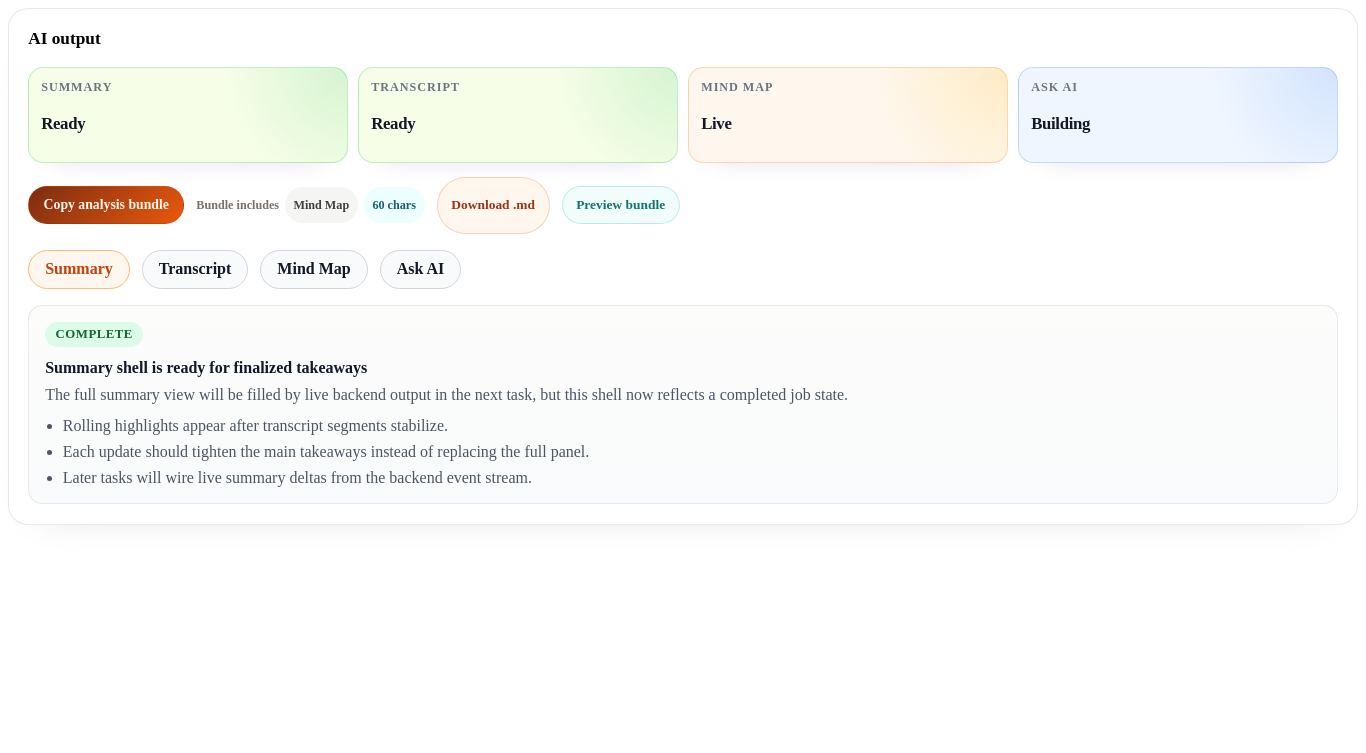
Test case: copies the mind map outline to the clipboard
Click the tab "Mind Map". click: click(314, 269)
box: [260,250,368,289]
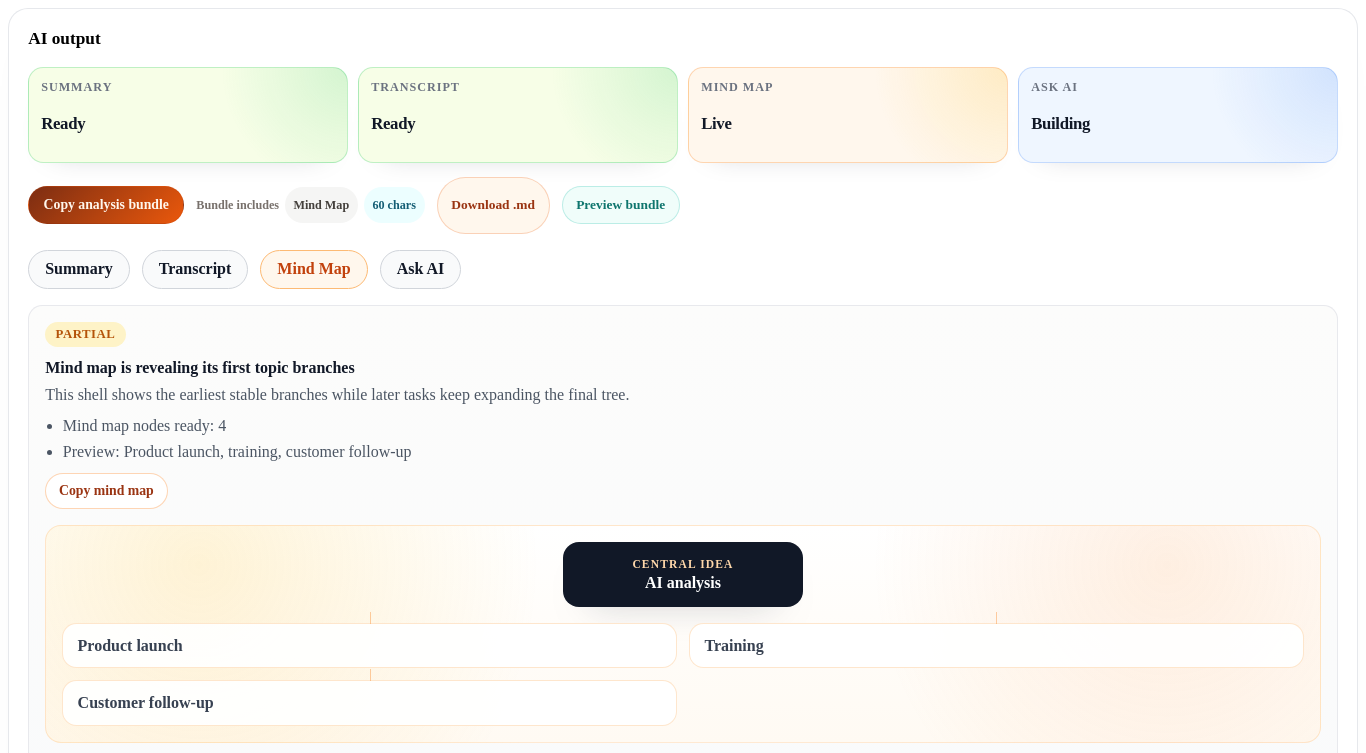
Click the button "Copy mind map". click: click(106, 491)
box: [45,473,168,509]
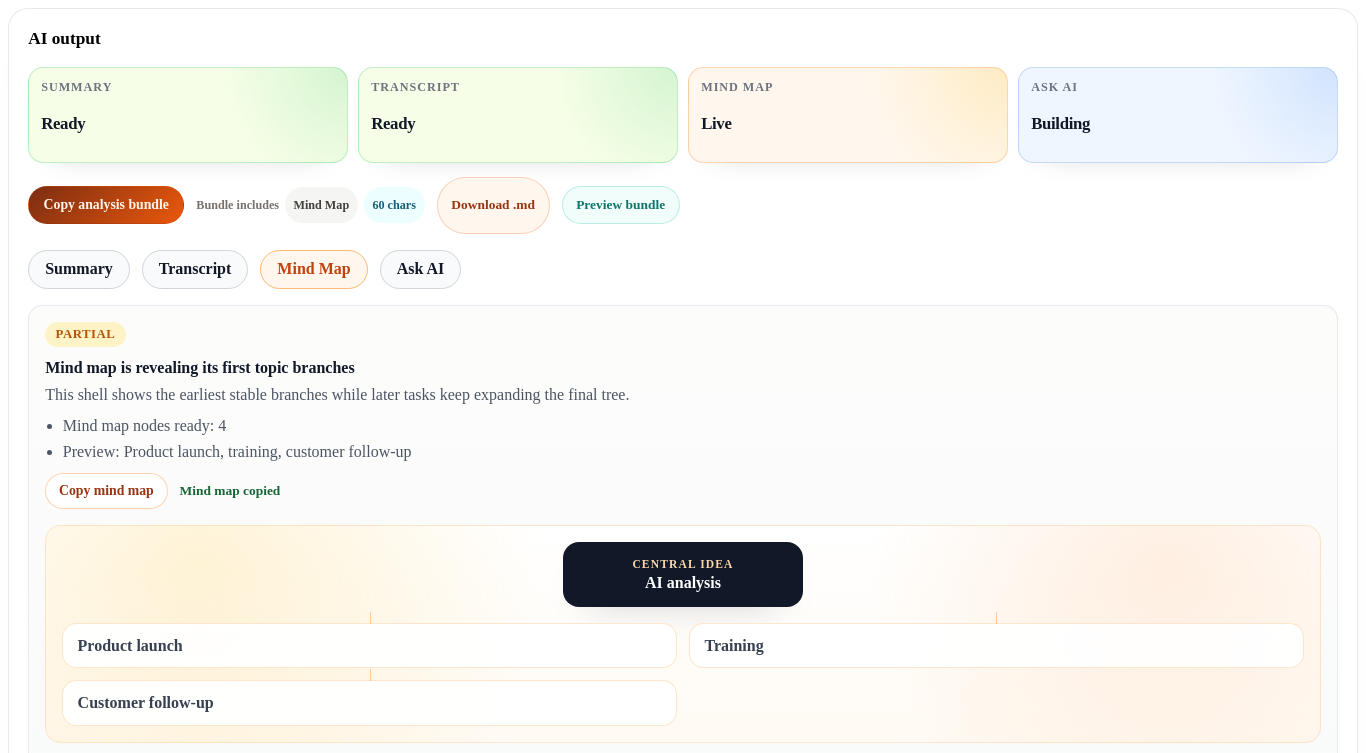
Result: the text "Mind map copied" is shown at [180,483,280,499]
